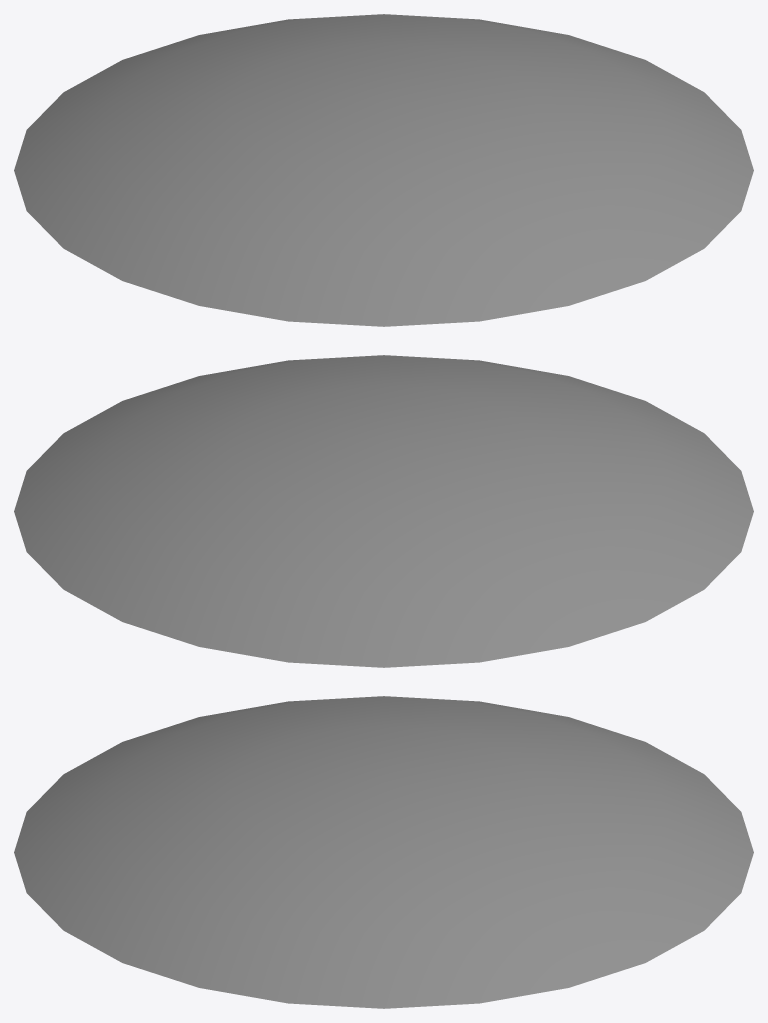
Rendered from DeltaK_TankTopper.dae.
3 renders of one model, top to bottom at view 1: azimuth 30°, elevation 25°; view 2: azimuth 150°, elevation 25°; view 3: azimuth 270°, elevation 25°, orthographic.
Parts seen in each view (by area): view 1: TankTopper; view 2: TankTopper; view 3: TankTopper.
Part boxes in pixels (x1=…): TankTopper: x1=14, y1=14, x2=753, y2=326; TankTopper: x1=14, y1=355, x2=753, y2=667; TankTopper: x1=14, y1=696, x2=753, y2=1008.
Bounding box in the file's own units: 0.9056 × 0.094 × 0.9056.
